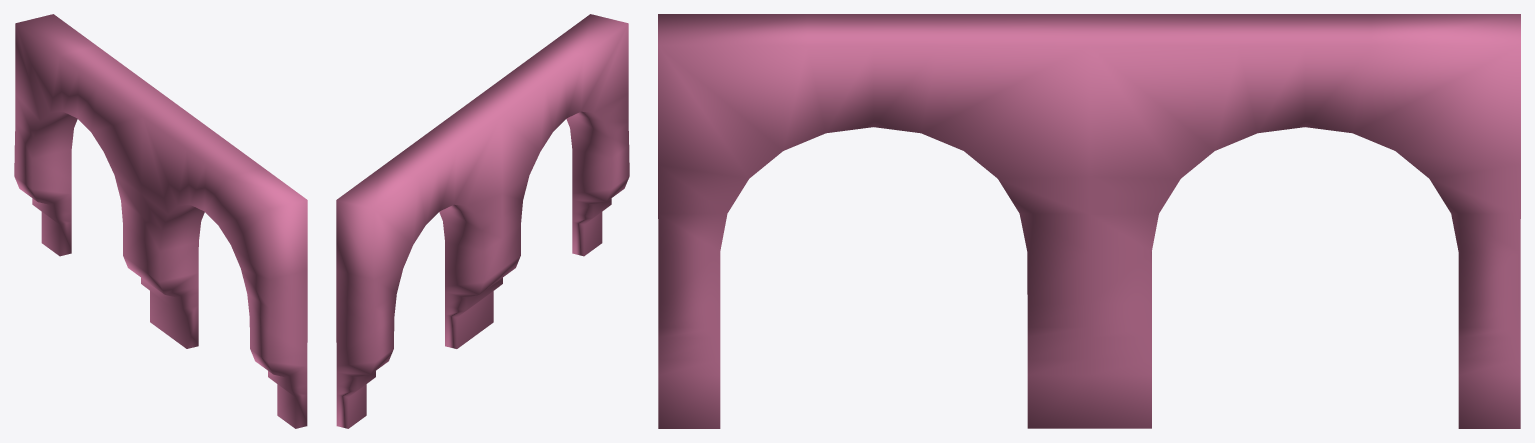
The model's file is Wall_Orn_02_x1.fbx.
3 renders of one model, left to right at view 1: azimuth 30°, elevation 25°; view 2: azimuth 150°, elevation 25°; view 3: azimuth 270°, elevation 25°, orthographic. The views are drawn at different scales.
Visible parts, largest first — view 1: Wall_Orn_02_x1; view 2: Wall_Orn_02_x1; view 3: Wall_Orn_02_x1.
Boxes of the visible parts, x1,y1,x2,y2 form: Wall_Orn_02_x1: (14,14,307,428); Wall_Orn_02_x1: (336,14,629,428); Wall_Orn_02_x1: (658,14,1520,428).
Size of the model in its own units: 27.42 by 148 by 301.
